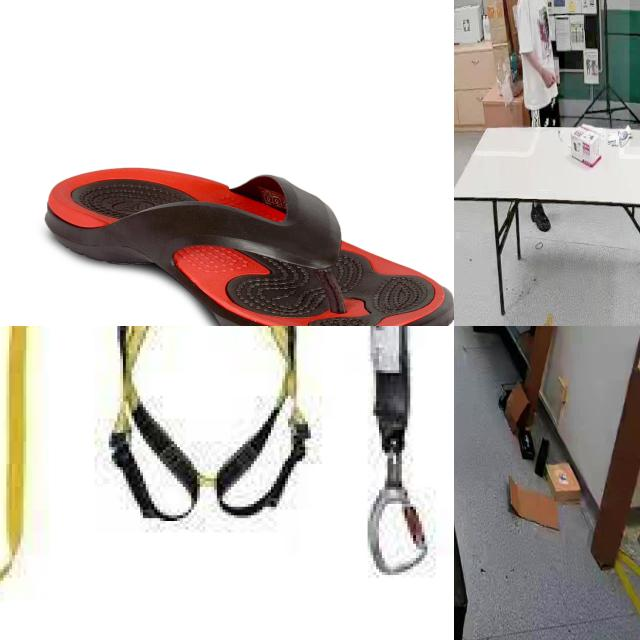Harness: (106, 326, 308, 522)
Sandals: (42, 165, 454, 326)
hand_noglove: (542, 67, 556, 89)
person: (516, 0, 565, 132)
shoes: (528, 203, 552, 238)
